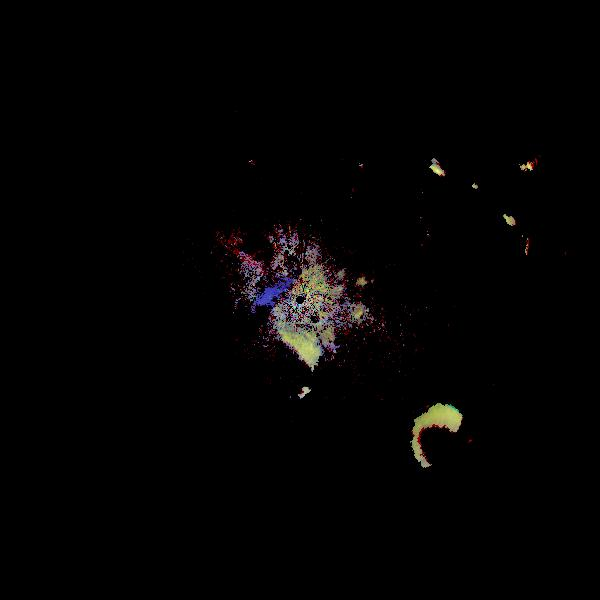roost: (400, 395, 505, 500), (253, 333, 331, 411)
